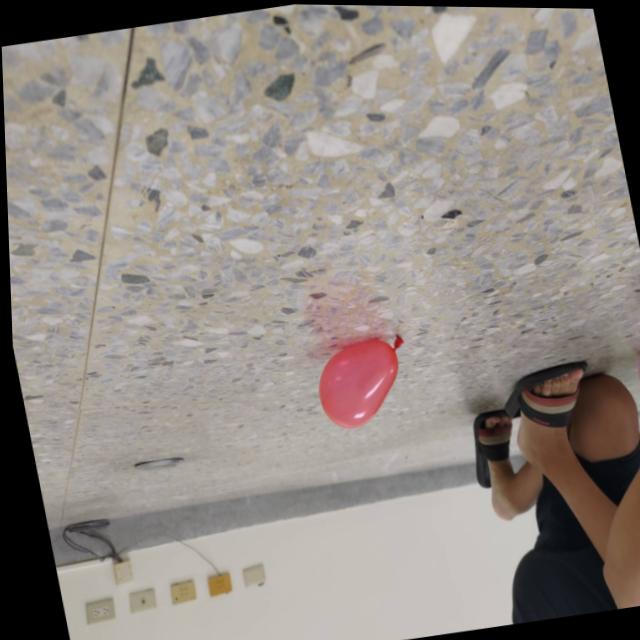red: (307, 330, 416, 432)
